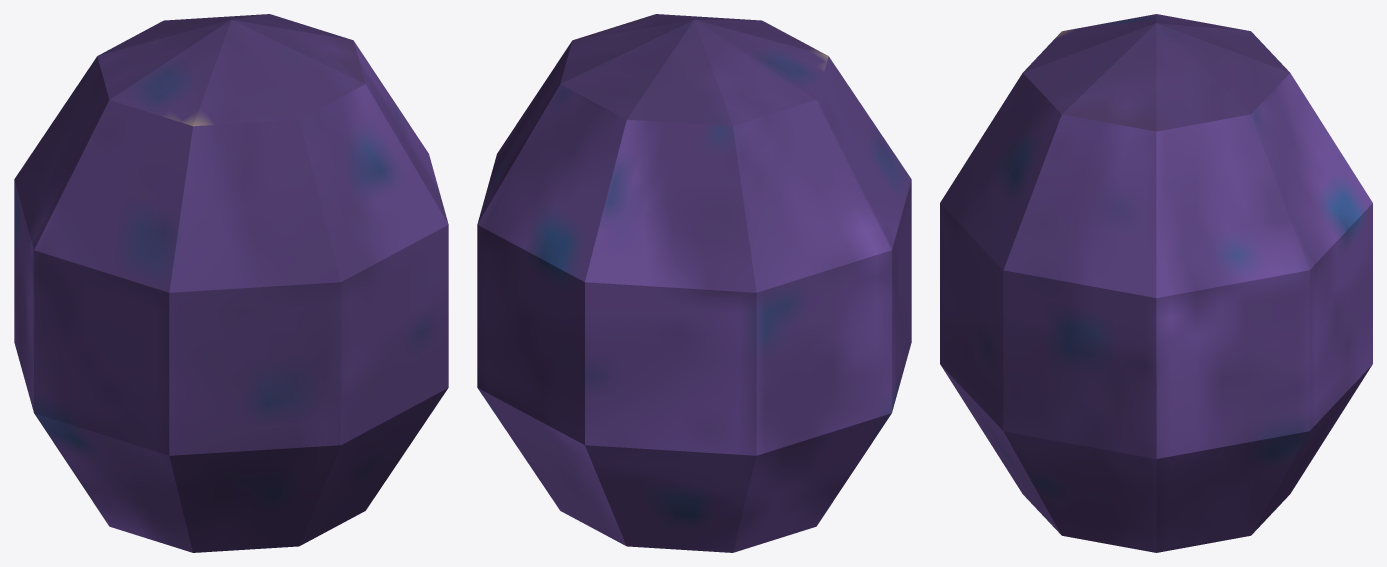
Rendered from monEgg.fbx.
3 renders of one model, left to right at view 1: azimuth 30°, elevation 25°; view 2: azimuth 150°, elevation 25°; view 3: azimuth 270°, elevation 25°, orthographic.
Parts seen in each view (by area): view 1: pSphere6; view 2: pSphere6; view 3: pSphere6.
Boxes of the visible parts, x1,y1,x2,y2 form: pSphere6: (14,14,448,552); pSphere6: (477,14,911,552); pSphere6: (940,14,1372,552).
Size of the model in its own units: 49.82 by 63.58 by 47.91.
